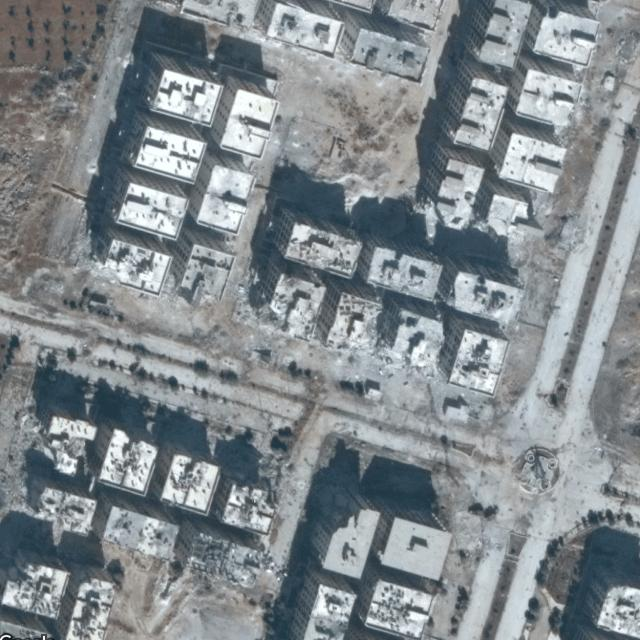damaged_building: (228, 250, 448, 382), (0, 398, 101, 533), (71, 223, 175, 300)
